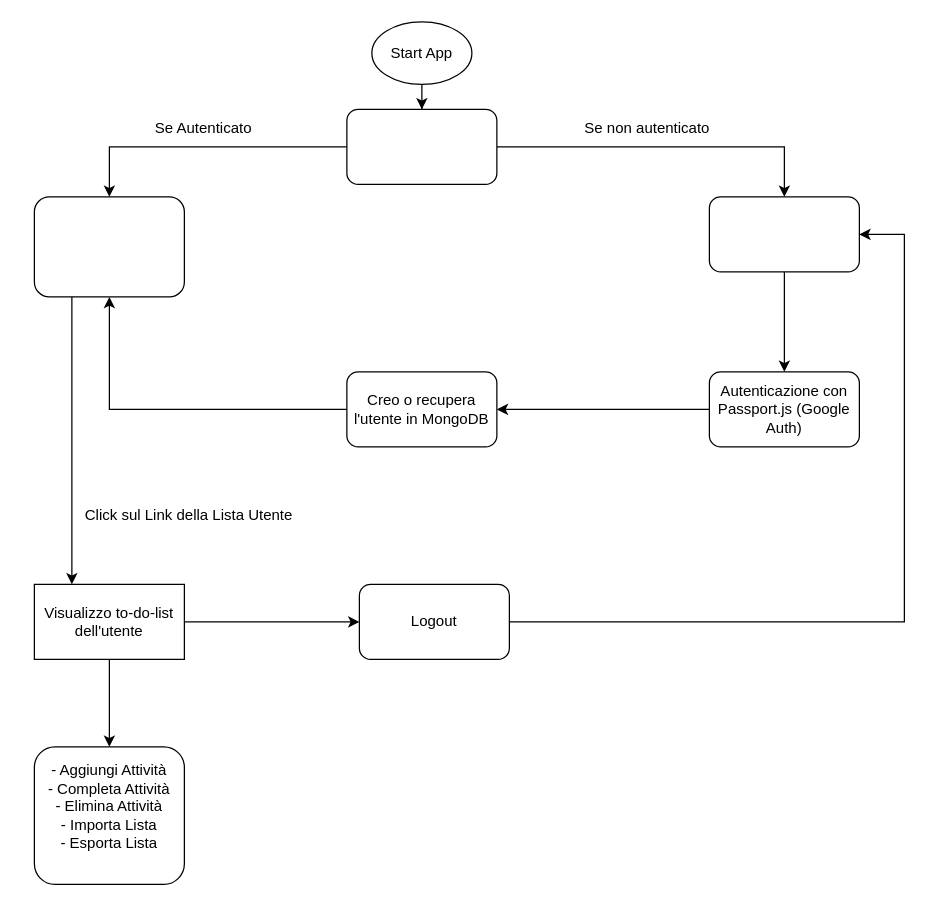
Image size: 936x906. Some labels were removed from this diagram. Each missing label, with the centre of its shape:
localhost:3000 (Homepage): point (421, 146)
Mostra il Pulsante Login con Google: point (783, 234)
Mostra: - Nome Utente - Logout - Link per la Lista dell'Utente: point (108, 246)
